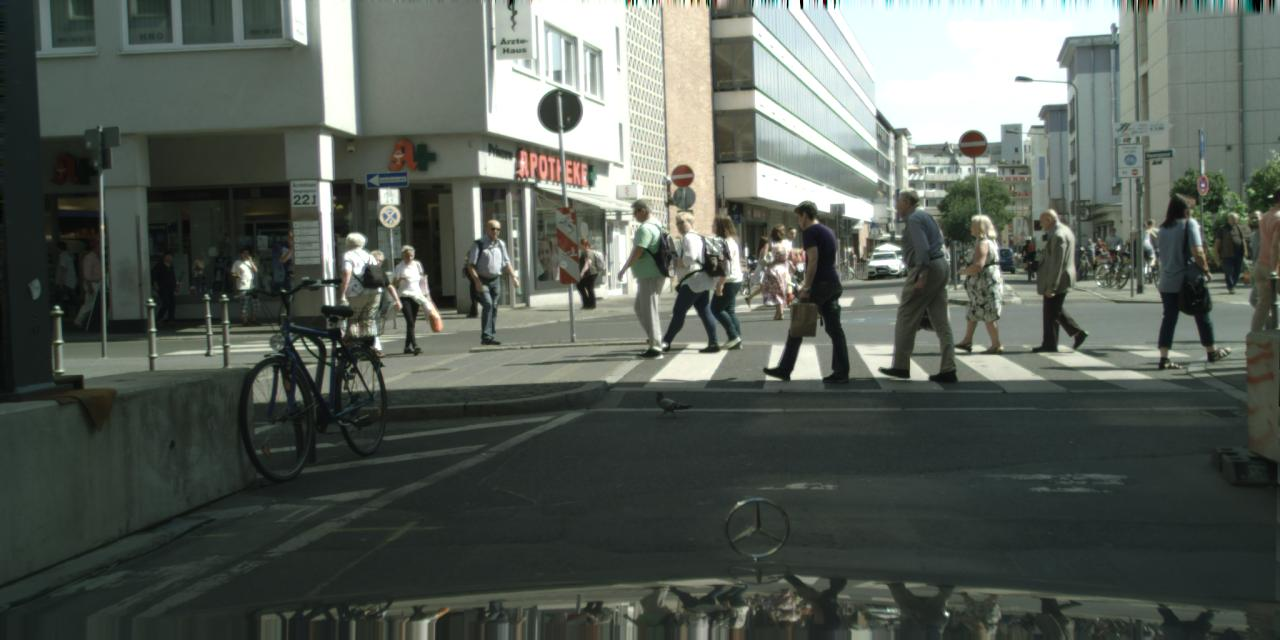ped: (872, 187, 951, 378), (770, 199, 844, 382), (1151, 193, 1221, 364), (614, 198, 680, 358), (1028, 208, 1086, 350), (653, 210, 711, 351), (948, 214, 1004, 352), (700, 213, 755, 348), (330, 232, 385, 366), (1238, 186, 1278, 368), (467, 220, 517, 345), (1235, 208, 1279, 347), (386, 244, 432, 356), (351, 250, 394, 356), (763, 222, 802, 318), (276, 230, 312, 322), (78, 239, 114, 329), (46, 242, 82, 328), (1214, 213, 1247, 293), (772, 227, 804, 308), (233, 249, 264, 325), (152, 251, 182, 326), (466, 241, 496, 315), (746, 236, 776, 306), (570, 238, 599, 310), (1138, 218, 1161, 275), (1134, 220, 1154, 272), (1102, 228, 1122, 276), (1126, 231, 1144, 277), (778, 260, 796, 306), (1092, 238, 1107, 274), (1084, 238, 1098, 272), (1021, 239, 1034, 272), (846, 251, 856, 273), (860, 254, 866, 274)
